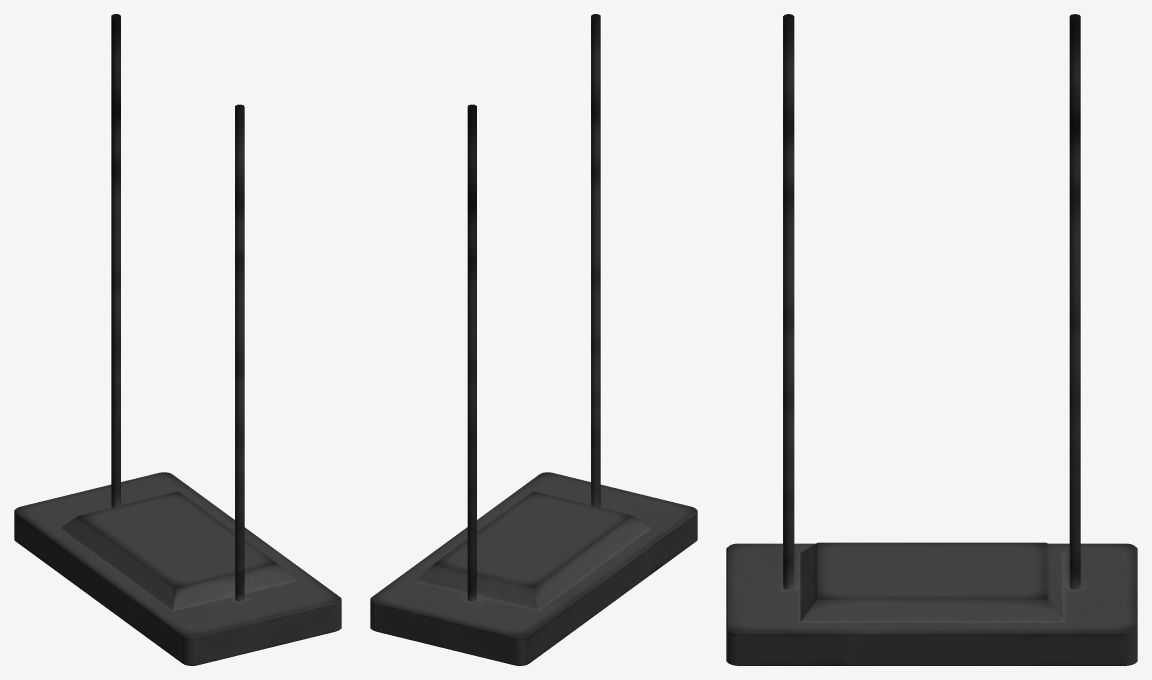
File: SM_Roof_Light_01.fbx
3 renders of one model, left to right at view 1: azimuth 30°, elevation 25°; view 2: azimuth 150°, elevation 25°; view 3: azimuth 270°, elevation 25°, orthographic. The views are drawn at different scales.
Parts seen in each view (by area): view 1: SM_Roof_Light_01_LOD0; view 2: SM_Roof_Light_01_LOD0; view 3: SM_Roof_Light_01_LOD0.
Part boxes in pixels (x1=…): SM_Roof_Light_01_LOD0: x1=14, y1=14, x2=341, y2=665; SM_Roof_Light_01_LOD0: x1=370, y1=14, x2=697, y2=665; SM_Roof_Light_01_LOD0: x1=726, y1=14, x2=1137, y2=665.
Bounding box in the file's own units: 51.33 × 100 × 162.
1 material, 1 textured.
